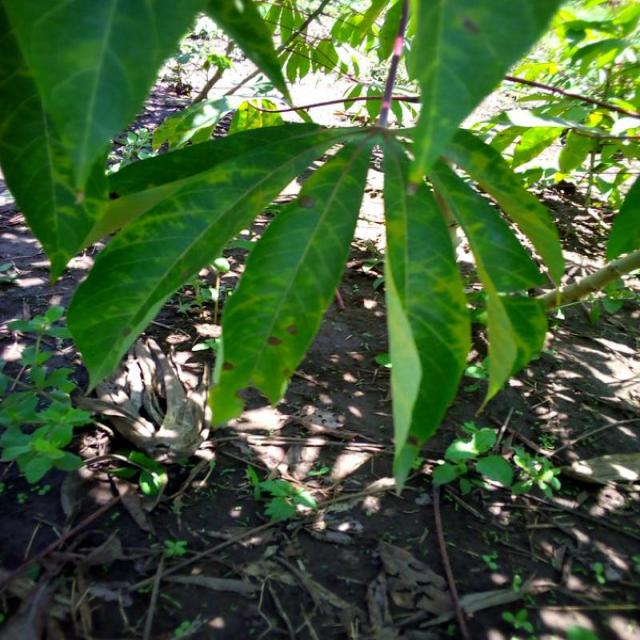cassava leaf: (65, 115, 334, 396), (0, 0, 203, 283), (205, 130, 376, 429), (380, 130, 471, 496), (404, 0, 565, 183)
